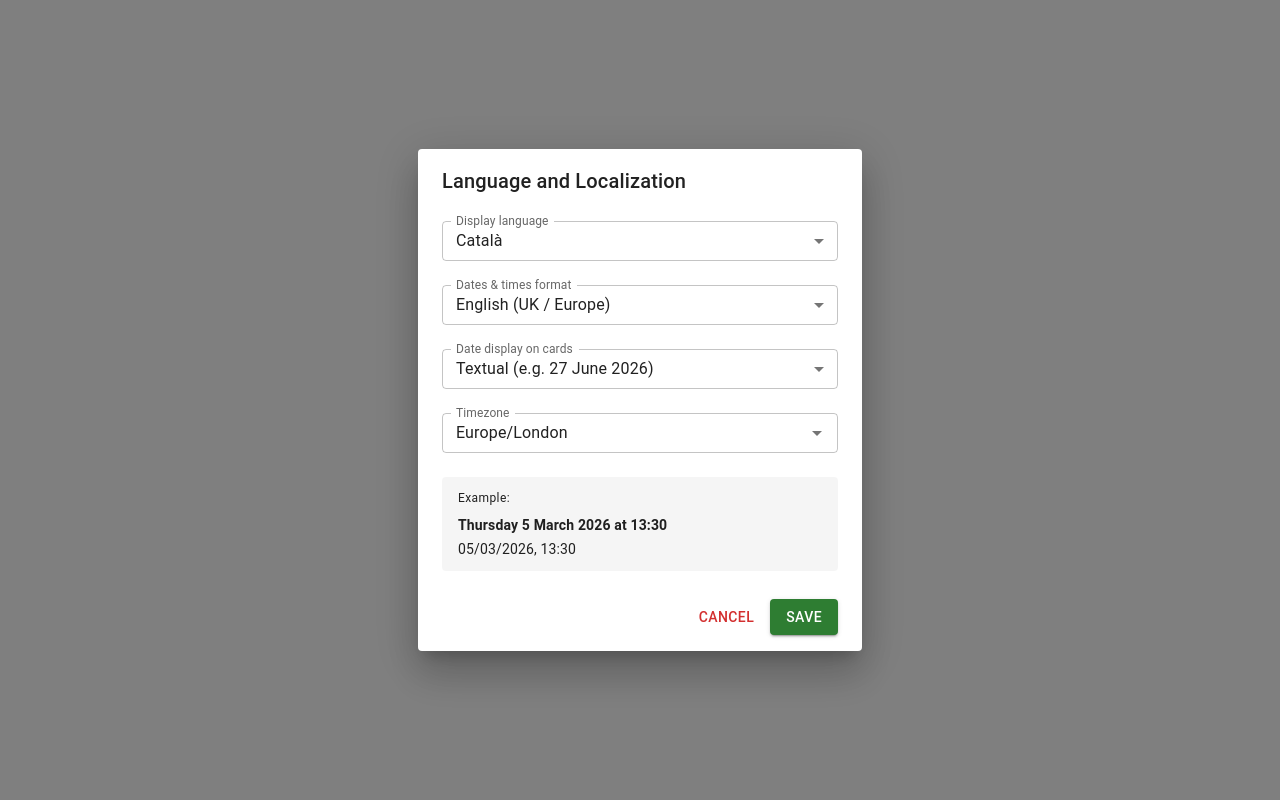
Scenario: LanguageLocalizationDialog › says so, and stays open, when saving fails
This screenshot has width=1280, height=800.
Click the button "Save": (804, 617) 770,599 -> 838,635
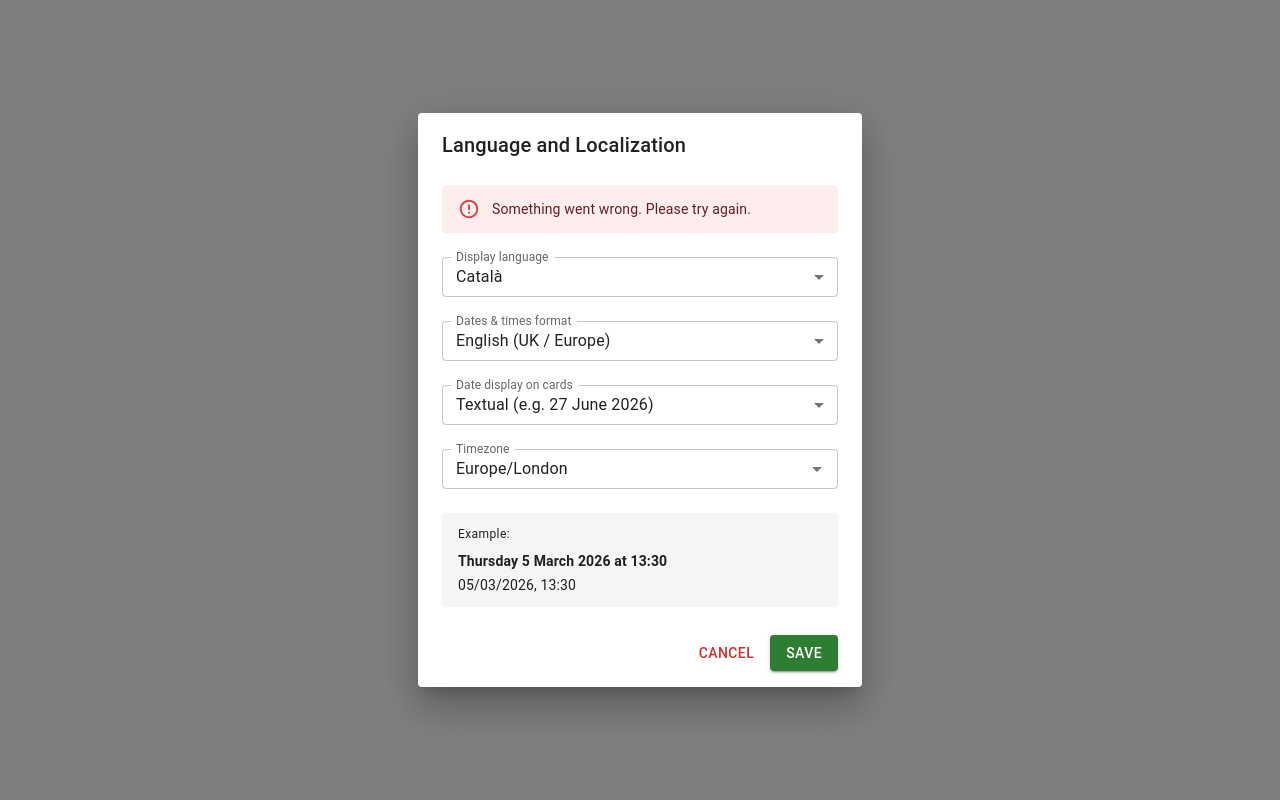
Expected: the message reads "Something went wrong. Please try again.", 492,201 -> 751,217
